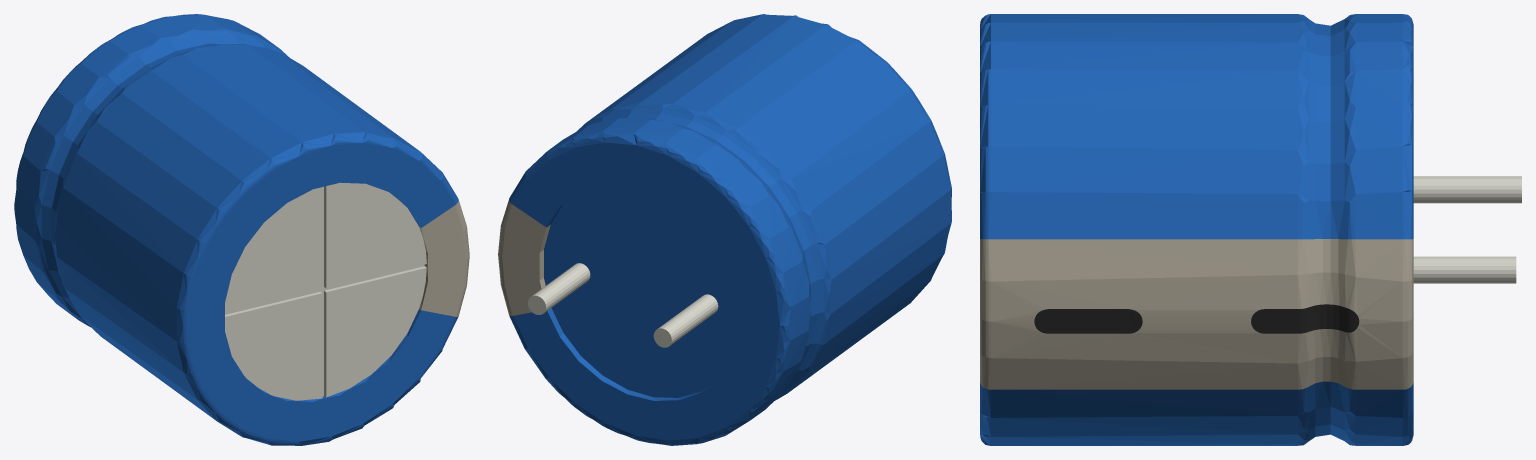
The model's file is cap-electrolytic.glb.
The picture shows the model from 3 angles, left to right: view 1: azimuth 30°, elevation 25°; view 2: azimuth 150°, elevation 25°; view 3: azimuth 270°, elevation 25°; orthographic projection. The views are drawn at different scales.
Visible parts, largest first — view 1: part1, part0, part2; view 2: part1, part2, part0; view 3: part1, part2, part0, part3.
Boxes of the visible parts, x1,y1,x2,y2 form: part1: (14, 14, 458, 445); part0: (225, 182, 426, 400); part2: (419, 200, 469, 316); part1: (509, 14, 951, 445); part2: (498, 200, 550, 315); part0: (528, 263, 718, 347); part1: (980, 14, 1413, 445); part2: (980, 239, 1413, 389); part0: (1413, 176, 1521, 283); part3: (1034, 304, 1359, 333).
Size of the model in its own units: 0.00798 by 0.00798 by 0.01.
